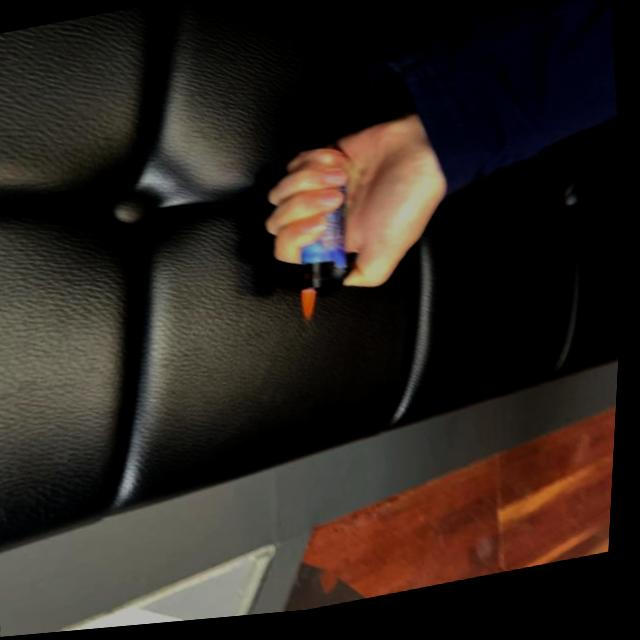Fire: (302, 290, 323, 327)
